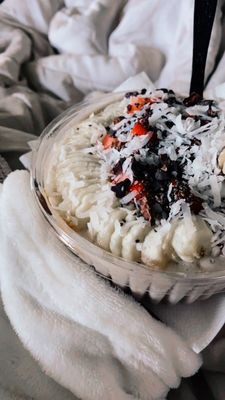sushi: (30, 87, 225, 308)
